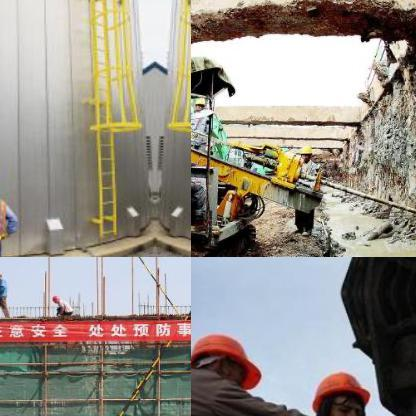Helmet: (191, 323, 261, 397), (309, 359, 376, 415), (295, 142, 313, 160), (193, 94, 207, 112), (191, 120, 196, 153), (50, 292, 60, 302), (0, 269, 2, 280)
